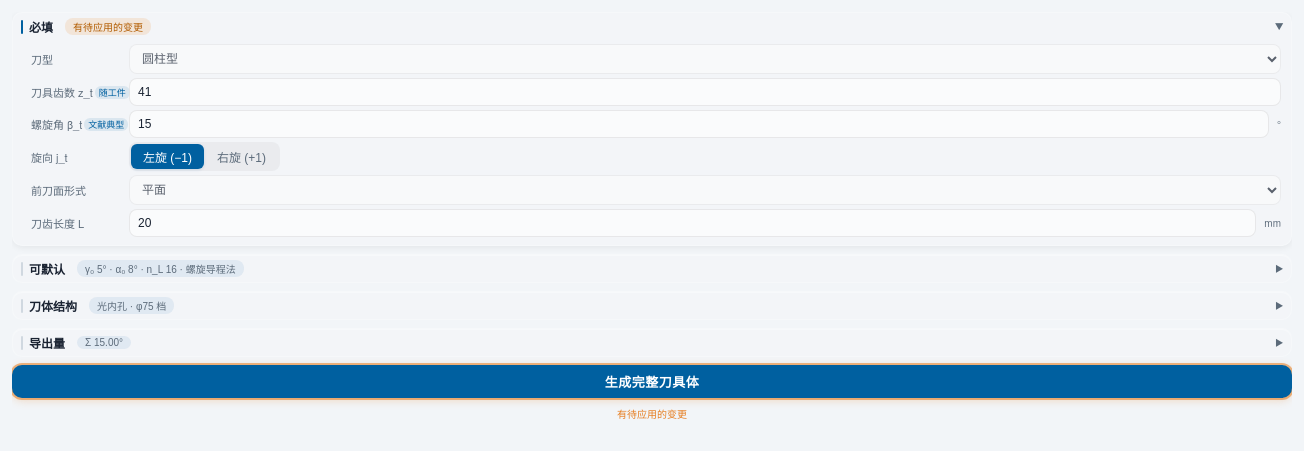
Test: ToolSolidPanel — 校验联动（PRD §5.2） › 黄警只在 blur 后浮现（沿用 GearParamsPanel @blur 节奏，不抢戏）
Replace the text in the number field next to "文献典型" with "25": point(699, 124) 129,110 -> 1269,138
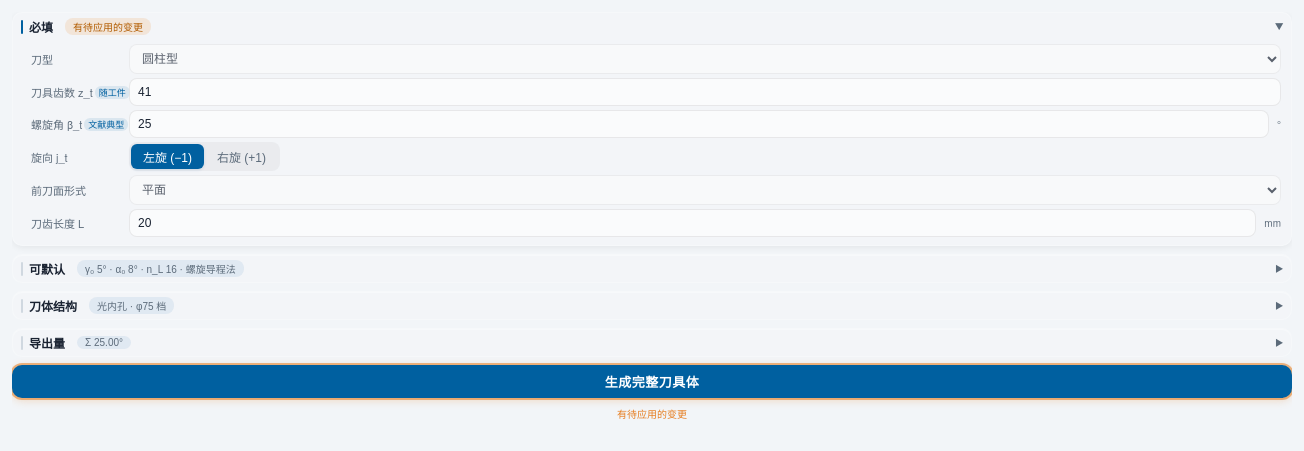
Leave the number field next to "文献典型", box 129,110 -> 1269,138
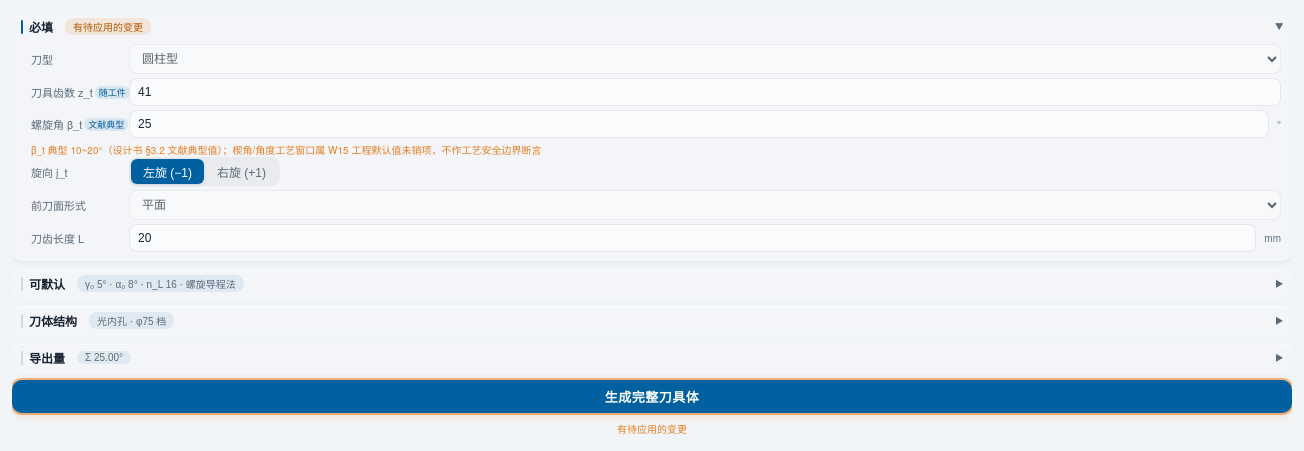
Check: the text with class "warn" shows "W15", box 31,143 -> 541,157
